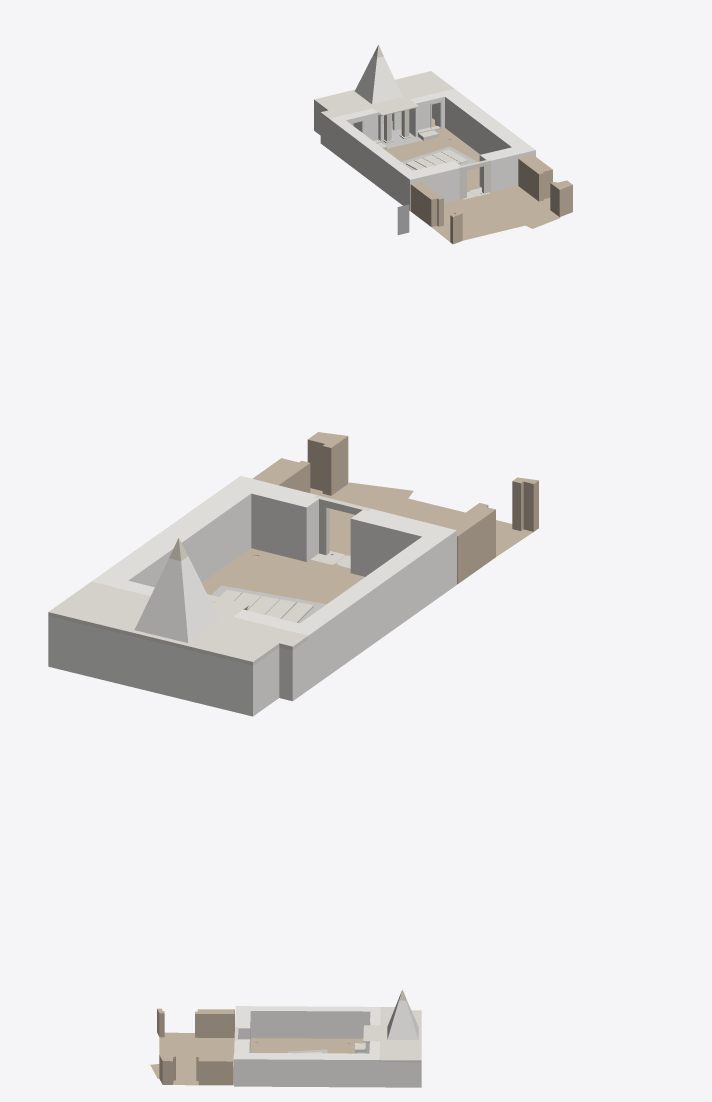
Rendered from Paser.glb.
3 renders of one model, top to bottom at view 1: azimuth 30°, elevation 25°; view 2: azimuth 150°, elevation 25°; view 3: azimuth 270°, elevation 25°, orthographic. The views are drawn at different scales.
Parts seen in each view (by area): view 1: Mesh5 Model, Mesh6 Model; view 2: Mesh5 Model; view 3: Mesh5 Model.
Boxes of the visible parts, x1,y1,x2,y2 form: Mesh5 Model: [314, 44, 572, 244]; Mesh6 Model: [397, 204, 409, 235]; Mesh5 Model: [48, 432, 538, 716]; Mesh5 Model: [150, 989, 421, 1087].
Bounding box in the file's own units: 19.94 × 4.66 × 40.18.
